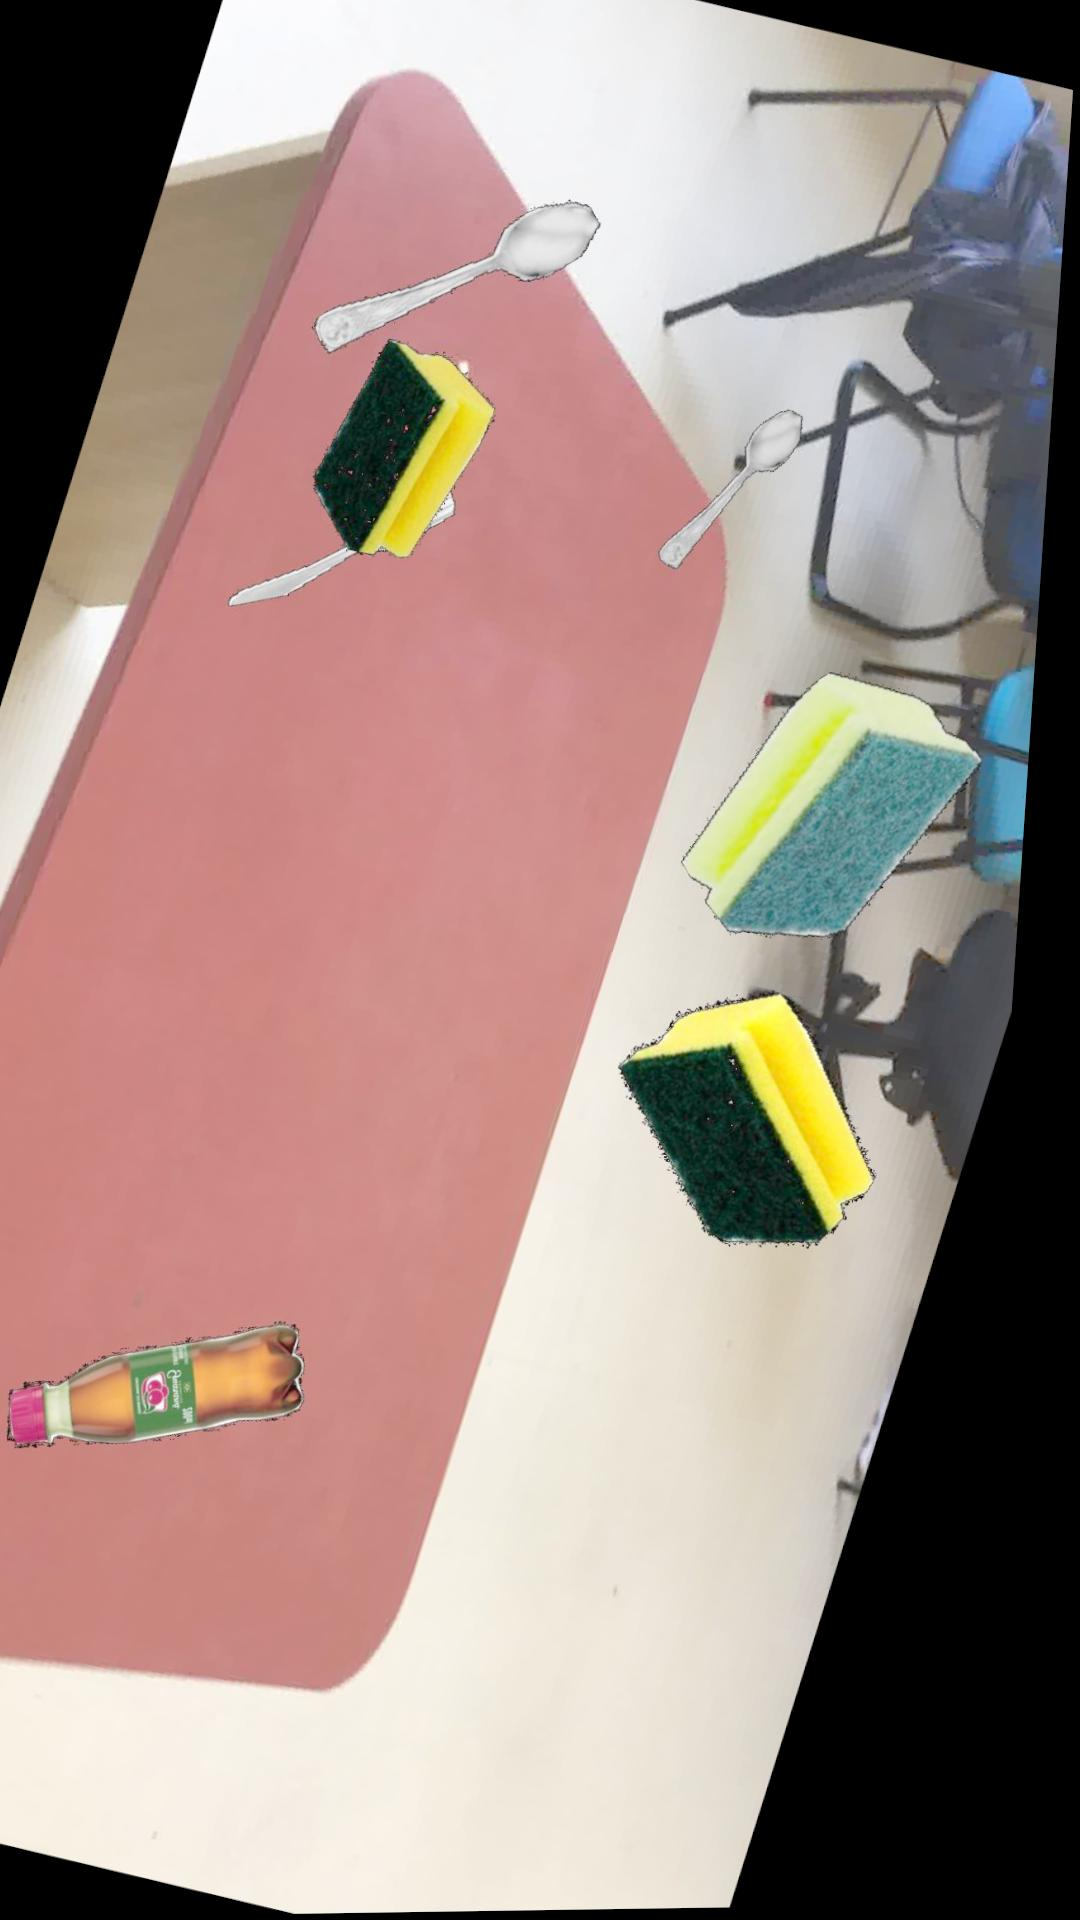fork: (235, 492, 460, 608)
guarana: (25, 1325, 322, 1449)
sponge: (691, 675, 990, 940), (630, 993, 890, 1251), (316, 340, 498, 559)
spoon: (316, 203, 601, 355), (665, 413, 806, 571)
